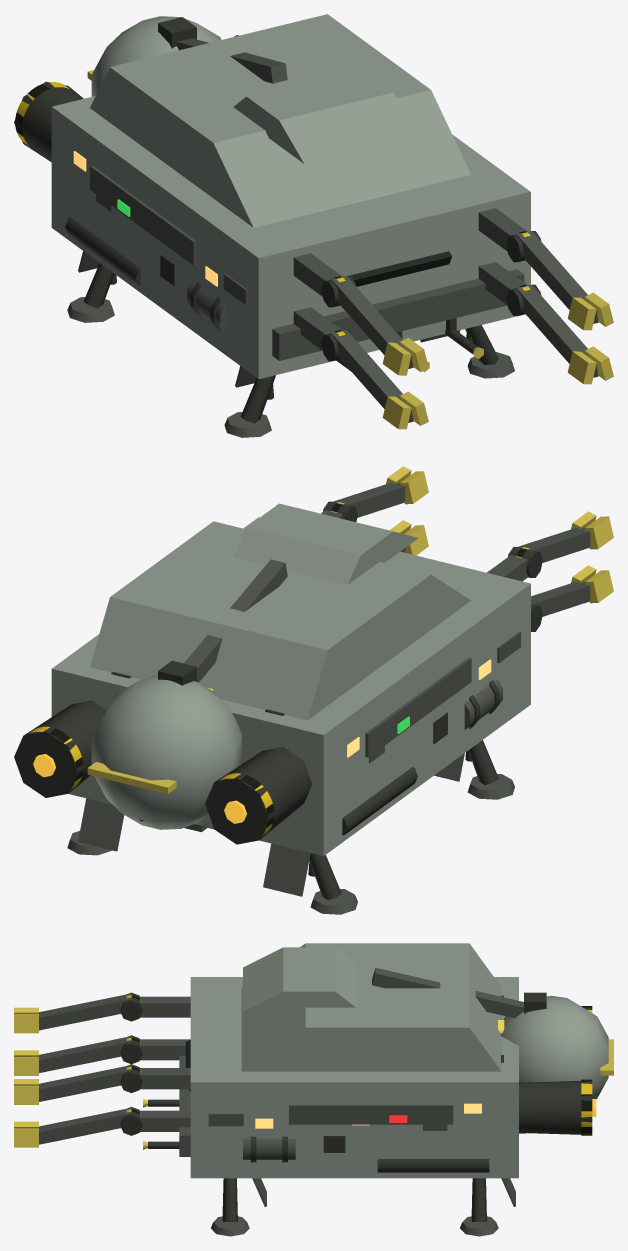
File: tug-l.glb
3 views of the same model, one above another, from view 1: azimuth 30°, elevation 25°; view 2: azimuth 150°, elevation 25°; view 3: azimuth 270°, elevation 25° (orthographic). The views are drawn at different scales.
Parts seen in each view (by area): view 1: hullMain, hullUpper, canopyFairing, armFore (×4), accentStripe, armUpper (×4), fuelBell, armJawA (×4), hazardFlankL, gearFoot (×3), gearStrut (×3), engineHousing (+5 smaller); view 2: hullUpper, hullMain, fuelBell, engineHousing (×2), canopyFairing, armFore (×3), gearBayDoor (×2), hazardFlankL, winchBoom, armJawA (×3), gearFoot (×2), gearStrut (×2) (+5 smaller); view 3: hullMain, hullUpper, fuelBell, armFore (×4), canopyFairing, armUpper (×4), engineHousing, hazardFlankR, armJawB (×4), winchBoom, armKnuckle (×4), tugShipServicePipeR (+6 smaller).
Boxes of the visible parts, x1,y1,x2,y2 form: hullMain: (51,96,530,379); hullUpper: (90,14,471,227); canopyFairing: (233,68,418,164); armFore (×4): (331,231,598,422); accentStripe: (272,269,524,360); armUpper (×4): (293,208,527,350); fuelBell: (91,16,221,96); armJawA (×4): (382,297,596,429); hazardFlankL: (90,165,196,265); gearFoot (×3): (67,297,514,437); gearStrut (×3): (83,263,498,423); engineHousing: (14,81,83,161); hullUpper: (90,521,470,720); hullMain: (51,517,530,856); fuelBell: (91,675,241,829); engineHousing (×2): (14,700,312,844); canopyFairing: (233,503,418,584); armFore (×3): (331,481,590,616); gearBayDoor (×2): (78,798,310,896); hazardFlankL: (365,657,471,757); winchBoom: (184,559,287,682); armJawA (×3): (400,471,613,603); gearFoot (×2): (310,774,514,914); gearStrut (×2): (309,740,498,899); hullMain: (190,977,518,1178); hullUpper: (241,943,501,1071); fuelBell: (502,995,608,1098); armFore (×4): (39,993,132,1144); canopyFairing: (243,947,355,1011); armUpper (×4): (139,996,190,1131); engineHousing: (519,1081,592,1135); hazardFlankR: (289,1105,453,1124); armJawB (×4): (14,1014,38,1147); winchBoom: (372,967,523,1018); armKnuckle (×4): (120,992,142,1135); tugShipServicePipeR: (377,1159,489,1172).
Size of the model in its own units: 2.31 by 2.06 by 5.3.
